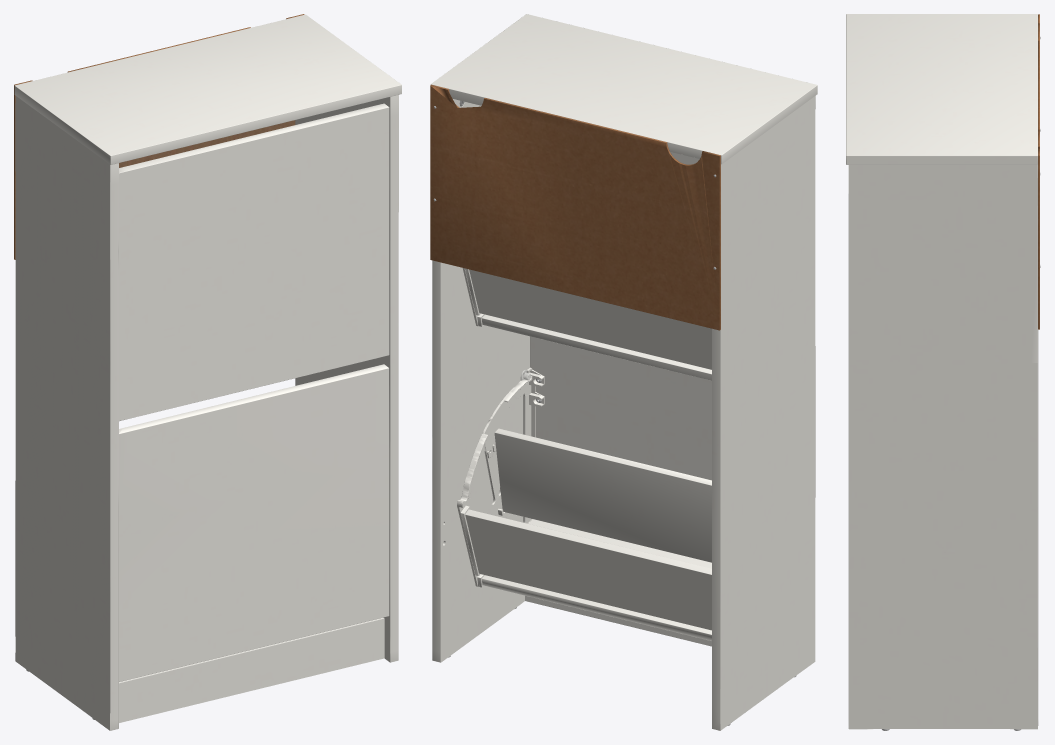
Rendered from bissa_szafka_na_buty_2_przegrody_70530256.glb.
The picture shows the model from 3 angles, left to right: view 1: azimuth 30°, elevation 25°; view 2: azimuth 150°, elevation 25°; view 3: azimuth 270°, elevation 25°; orthographic projection.
Visible parts, largest first — view 1: bissa_szafka_na_buty_2_przegrody_70530256; view 2: bissa_szafka_na_buty_2_przegrody_70530256; view 3: bissa_szafka_na_buty_2_przegrody_70530256.
Boxes of the visible parts, box(x1,y1,x2,y2) form: bissa_szafka_na_buty_2_przegrody_70530256: box(14, 14, 401, 730); bissa_szafka_na_buty_2_przegrody_70530256: box(430, 14, 817, 730); bissa_szafka_na_buty_2_przegrody_70530256: box(846, 14, 1040, 730).
Size of the model in its own units: 0.4886 by 0.9267 by 0.2836.
Materials: 2 (2 with a texture image).
